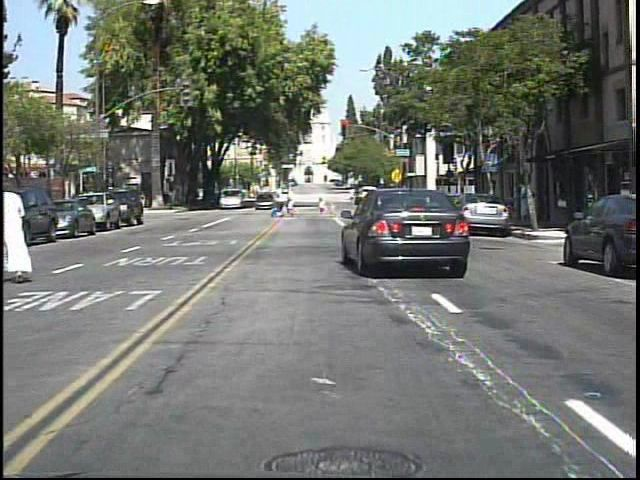person: (8, 183, 45, 286), (517, 175, 541, 229), (287, 183, 304, 221)
